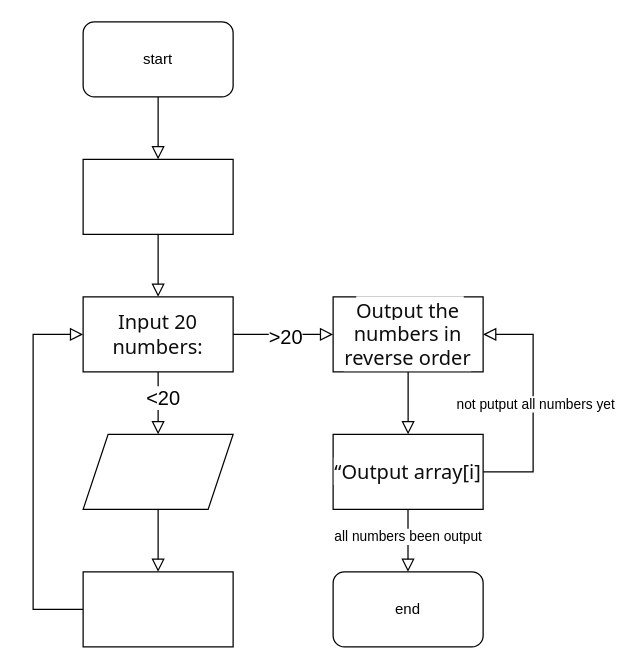
This 636x669 diagram has some shape labels left out. Here are the shapes that lost their labels. From the top down, the centre of each, then its label:
(x=157, y=196): Initialize an array of size 20
(x=157, y=471): Enter number i:
(x=157, y=609): Store the number in the array at position i
